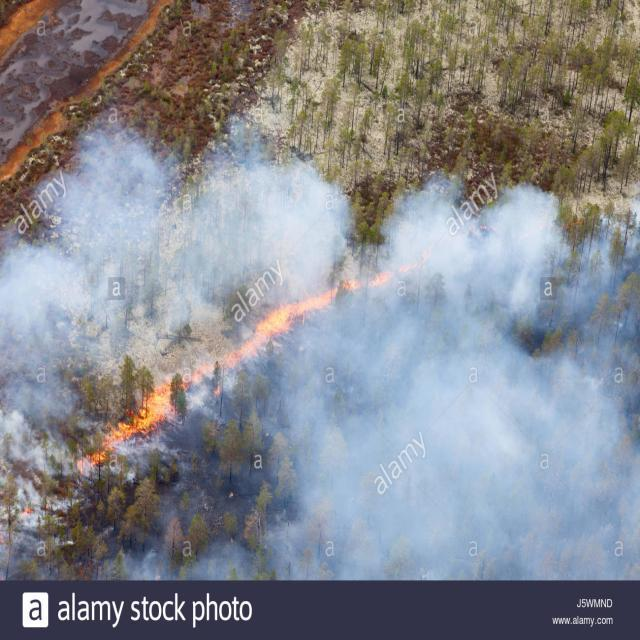Fire: (195, 282, 327, 380), (72, 372, 185, 474), (353, 253, 425, 285)
Smoke: (26, 135, 630, 568)
